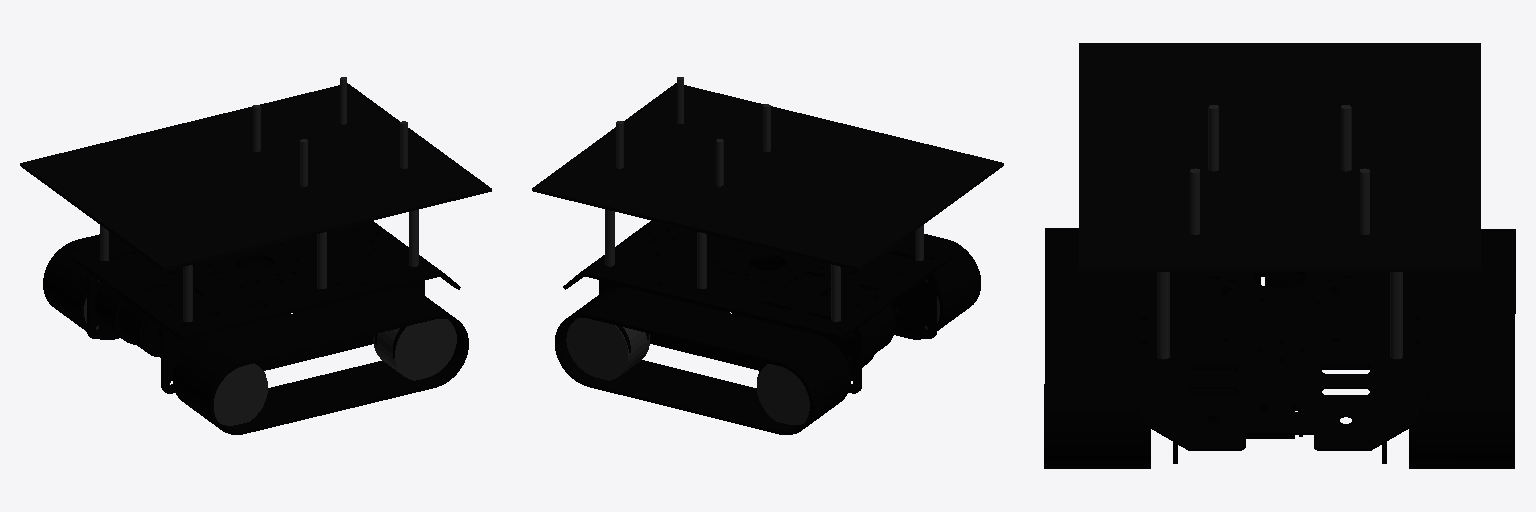
The robot description file, URDF, robot "my_tank":
<?xml version="1.0"?>
<robot name="my_tank">

<!-- ================================================ -->
<!--                   BASE LINK                      -->
<!-- ================================================ -->

    <link name="base_link">
        <visual>
        <origin xyz="0 0 0" rpy="3.14 0 1.57"/>
        <geometry>
            <mesh filename="package://tank_description/meshes/new_chassis.stl"
                scale="0.001 0.001 0.001"/>
        </geometry>
        <material name="black">
            <color rgba="0.025 0.025 0.025 1.0"/>
        </material>
        </visual>

        <collision>
            <origin xyz="0.0115 0 0.004" rpy="0 0 0"/>
            <geometry>
                <box size="0.1833 0.1776 0.0423"/>
            </geometry>
        </collision>

        <inertial>
            <origin xyz="0.0115 0 0.004" rpy="0 0 0"/>
            <mass value="1.02"/>
            <inertia
                ixx="0.00283" ixy="0.0" ixz="0.0"
                iyy="0.00301" iyz="0.0" izz="0.00554"/>
        </inertial>
    </link>


<!-- ================================================ -->
<!--                    IMU LINK                      -->
<!-- ================================================ -->

    <link name="imu_link"/>
    <joint name="imu_joint" type="fixed">
        <parent link="base_link"/>
        <child link="imu_link"/>
        <origin xyz="0.00 0 0.078" rpy="0 0 0"/>
    </joint>




<!-- ================================================ -->
<!--     CHASSIS → PLATFORM STANDOFFS (4 per side)    -->
<!-- ================================================ -->

<!-- ============== LEFT ================== -->

    <link name="standoff_l2">
        <visual>
        <geometry><cylinder radius="0.0025" length="0.05"/></geometry>
        <material name="silver"><color rgba="0.15 0.15 0.15 1.0"/></material>
        </visual>
    </link>
    <joint name="standoff_l2_joint" type="fixed">
        <parent link="base_link"/>
        <child link="standoff_l2"/>
        <origin xyz="-0.067 0.044 0.057"/>
    </joint>

    <link name="standoff_l1">
        <visual>
        <geometry><cylinder radius="0.0025" length="0.05"/></geometry>
        <material name="silver"><color rgba="0.15 0.15 0.15 1.0"/></material>
        </visual>
    </link>
    <joint name="standoff_l1_joint" type="fixed">
        <parent link="base_link"/>
        <child link="standoff_l1"/>
        <origin xyz="0.015 0.044 0.057"/>

    </joint>

        <link name="standoff_l3">
        <visual>
        <geometry><cylinder radius="0.0025" length="0.05"/></geometry>
        <material name="silver"><color rgba="0.15 0.15 0.15 1.0"/></material>
        </visual>
    </link>
    <joint name="standoff_l3_joint" type="fixed">
        <parent link="base_link"/>
        <child link="standoff_l3"/>
        <origin xyz="0.071 0.044 0.057"/>
    </joint>


<!-- ============== RIGHT ================== -->

    <link name="standoff_r2">
        <visual>
        <geometry><cylinder radius="0.0025" length="0.05"/></geometry>
        <material name="silver"><color rgba="0.15 0.15 0.15 1.0"/></material>
        </visual>
    </link>
    <joint name="standoff_r2_joint" type="fixed">
        <parent link="base_link"/>
        <child link="standoff_r2"/>
        <origin xyz="-0.067 -0.044 0.057"/>
    </joint>

    <link name="standoff_r1">
        <visual>
        <geometry><cylinder radius="0.0025" length="0.05"/></geometry>
        <material name="silver"><color rgba="0.15 0.15 0.15 1.0"/></material>
        </visual>
    </link>
    <joint name="standoff_r1_joint" type="fixed">
        <parent link="base_link"/>
        <child link="standoff_r1"/>
        <origin xyz="0.015 -0.044 0.057"/>

    </joint>

        <link name="standoff_r3">
        <visual>
        <geometry><cylinder radius="0.0025" length="0.05"/></geometry>
        <material name="silver"><color rgba="0.15 0.15 0.15 1.0"/></material>
        </visual>
    </link>
    <joint name="standoff_r3_joint" type="fixed">
        <parent link="base_link"/>
        <child link="standoff_r3"/>
        <origin xyz="0.071 -0.044 0.057"/>
    </joint>



    <!-- ================================================ -->
    <!--                    PLATFORM                      -->
    <!-- ================================================ -->
    <link name="platform">
        <visual>
        <geometry>
            <box size="0.2 0.152 0.002"/>
        </geometry>
        <material name="black">
            <color rgba="0.04 0.04 0.04 1.0"/>
        </material>
        </visual>
    </link>
    <joint name="platform_joint" type="fixed">
        <parent link="base_link"/>
        <child link="platform"/>
        <origin xyz="0 0 0.082"/>
    </joint>



    <!-- ================================================ -->
    <!--      PLATFORM → LIDAR STANDOFFS (4 corners)      -->
    <!-- ================================================ -->
    <link name="lidar_standoff_fl">
        <visual>
        <geometry><cylinder radius="0.002" length="0.026"/></geometry>
        <material name="silver"><color rgba="0.15 0.15 0.15 1.0"/></material>
        </visual>
    </link>
    <joint name="lidar_standoff_fl_joint" type="fixed">
        <parent link="platform"/>
        <child link="lidar_standoff_fl"/>
        <origin xyz="0.072 0.032 0.015"/>
    </joint>

    <link name="lidar_standoff_fr">
        <visual>
        <geometry><cylinder radius="0.002" length="0.026"/></geometry>
        <material name="silver"><color rgba="0.15 0.15 0.15 1.0"/></material>
        </visual>
    </link>
    <joint name="lidar_standoff_fr_joint" type="fixed">
        <parent link="platform"/>
        <child link="lidar_standoff_fr"/>
        <origin xyz="0.072 -0.032 0.015"/>
    </joint>

    <link name="lidar_standoff_rl">
        <visual>
        <geometry><cylinder radius="0.002" length="0.026"/></geometry>
        <material name="silver"><color rgba="0.15 0.15 0.15 1.0"/></material>
        </visual>
    </link>
    <joint name="lidar_standoff_rl_joint" type="fixed">
        <parent link="platform"/>
        <child link="lidar_standoff_rl"/>
        <origin xyz="0.015 0.025 0.015"/>
    </joint>

    <link name="lidar_standoff_rr">
        <visual>
        <geometry><cylinder radius="0.002" length="0.026"/></geometry>
        <material name="silver"><color rgba="0.15 0.15 0.15 1.0"/></material>
        </visual>
    </link>
    <joint name="lidar_standoff_rr_joint" type="fixed">
        <parent link="platform"/>
        <child link="lidar_standoff_rr"/>
        <origin xyz="0.015 -0.025 0.015"/>
    </joint>



<!-- ================================================ -->
<!--                     LIDAR                        -->
<!-- ================================================ -->

    <link name="lidar_link">
        <visual>
        <origin xyz="0.00 0 0" rpy="0 0 3.1416"/>
        <geometry>
            <mesh filename="package://tank_description/meshes/ydlidar_x3pro.stl"
                scale="0.001 0.001 0.001"/>
        </geometry>
        <material name="blue">
            <color rgba="0.5 0.5 0.5 1.0"/>
        </material>
        </visual>

        <!-- Gazebo needs collision + inertial on sensor links -->
        <collision>
            <geometry><cylinder radius="0.035" length="0.03"/></geometry>
        </collision>
        <inertial>
            <mass value="0.05"/>
            <inertia ixx="0.00001" ixy="0" ixz="0"
                     iyy="0.00001" iyz="0" izz="0.00001"/>
        </inertial>
    </link>
    <joint name="lidar_joint" type="fixed">
        <parent link="platform"/>
        <child link="lidar_link"/>
        <origin xyz="0.05 0 0.03"/>
    </joint>




<!-- ================================================ -->
<!--                  DRIVE WHEELS                    -->
<!-- ================================================ -->

<!-- ============== LEFT ================== -->
<link name="left_drive">
    <visual>
    <geometry>
        <cylinder radius="0.019" length="0.023"/>
    </geometry>
    <material name="light_grey">
        <color rgba="0.15 0.15 0.15 1.0"/>
    </material>
    </visual>
    <collision>
        <geometry><cylinder radius="0.019" length="0.023"/></geometry>
    </collision>
    <inertial>
        <mass value="0.05"/>
        <inertia
            ixx="0.000016" ixy="0.0" ixz="0.0"
            iyy="0.000016" iyz="0.0" izz="0.000016"/>
    </inertial>
</link>
<joint name="left_drive_joint" type="continuous">
    <parent link="base_link"/>
    <child link="left_drive"/>
    <origin xyz="-0.0579 0.068 0.001" rpy="-1.5708 0 0"/>
    <axis xyz="0 0 1"/>
</joint>


<!-- ============== RIGHT ================== -->
<link name="right_drive">
    <visual>
    <geometry>
        <cylinder radius="0.019" length="0.023"/>
    </geometry>
    <material name="light_grey">
        <color rgba="0.15 0.15 0.15 1.0"/>
    </material>
    </visual>
    <collision>
        <geometry><cylinder radius="0.019" length="0.023"/></geometry>
    </collision>
    <inertial>
        <mass value="0.05"/>
        <inertia
            ixx="0.000016" ixy="0.0" ixz="0.0"
            iyy="0.000016" iyz="0.0" izz="0.000016"/>
    </inertial>
</link>
<joint name="right_drive_joint" type="continuous">
    <parent link="base_link"/>
    <child link="right_drive"/>
    <origin xyz="0.058 -0.068 0.001" rpy="-1.5708 0 0"/>
    <axis xyz="0 0 1"/>
</joint>



<!-- ================================================ -->
<!--                 BEARING WHEELS                   -->
<!-- ================================================ -->

<!-- ============== LEFT ================== -->
<link name="left_bearing">
    <visual>
    <geometry>
        <cylinder radius="0.019" length="0.023"/>
    </geometry>
    <material name="light_grey">
        <color rgba="0.15 0.15 0.15 1.0"/>
    </material>
    </visual>
    <collision>
        <geometry><cylinder radius="0.019" length="0.023"/></geometry>
    </collision>
    <inertial>
        <mass value="0.05"/>
        <inertia
            ixx="0.000016" ixy="0.0" ixz="0.0"
            iyy="0.000016" iyz="0.0" izz="0.000016"/>
    </inertial>
</link>
<joint name="left_bearing_joint" type="continuous">
    <parent link="base_link"/>
    <child link="left_bearing"/>
    <origin xyz="0.058 0.0686 0.001" rpy="-1.5708 0 0"/>
    <axis xyz="0 0 1"/>
</joint>

<!-- ============== RIGHT ================== -->
<link name="right_bearing">
    <visual>
    <geometry>
        <cylinder radius="0.019" length="0.023"/>
    </geometry>
    <material name="light_grey">
        <color rgba="0.15 0.15 0.15 1.0"/>
    </material>
    </visual>
    <collision>
        <geometry><cylinder radius="0.019" length="0.023"/></geometry>
    </collision>
    <inertial>
        <mass value="0.05"/>
        <inertia
            ixx="0.000016" ixy="0.0" ixz="0.0"
            iyy="0.000016" iyz="0.0" izz="0.000016"/>
    </inertial>
</link>
<joint name="right_bearing_joint" type="continuous">
    <parent link="base_link"/>
    <child link="right_bearing"/>
    <origin xyz="-0.058 -0.069 0.001" rpy="-1.5708 0 0"/>
    <axis xyz="0 0 1"/>
</joint>



<!-- ================================================ -->
<!--              ULTRASONIC SENSORS                  -->
<!-- ================================================ -->

<!-- ============== LEFT ================== -->
<link name="ultrasonic_left_link">
    <visual>
        <origin xyz="0 0 0" rpy="4.7124 0 0"/>
        <geometry>
            <mesh filename="package://tank_description/meshes/ultrasonic_sensor.stl"
                scale="0.001 0.001 0.001"/>
        </geometry>
        <material name="dark">
            <color rgba="1 1 1 1.0"/>
        </material>
    </visual>
</link>
<joint name="ultrasonic_left_joint" type="fixed">
    <parent link="base_link"/>
    <child link="ultrasonic_left_link"/>
    <origin xyz="0.01 0.05 0.042" rpy="0 0 0"/>
</joint>


<!-- ============== RIGHT ================== -->
<link name="ultrasonic_right_link">
    <visual>
        <origin xyz="0 0 0" rpy="4.7124 0 0"/>
        <geometry>
            <mesh filename="package://tank_description/meshes/ultrasonic_sensor.stl"
                scale="0.001 0.001 0.001"/>
        </geometry>
        <material name="dark">
            <color rgba="1 1 1 1.0"/>
        </material>
    </visual>
</link>
<joint name="ultrasonic_right_joint" type="fixed">
    <parent link="base_link"/>
    <child link="ultrasonic_right_link"/>
    <origin xyz="0.01 -0.05 0.042" rpy="0 0 3.1416"/>
</joint>


<!-- ============== BACK ================== -->
<link name="ultrasonic_back_link">
    <visual>
        <origin xyz="0 0 0" rpy="4.7124 0 0"/>
        <geometry>
            <mesh filename="package://tank_description/meshes/ultrasonic_sensor.stl"
                scale="0.001 0.001 0.001"/>
        </geometry>
        <material name="dark">
            <color rgba="1 1 1 1.0"/>
        </material>
    </visual>
</link>
<joint name="ultrasonic_back_joint" type="fixed">
    <parent link="base_link"/>
    <child link="ultrasonic_back_link"/>
    <origin xyz="-0.085 0.0 0.012" rpy="0 0 1.5708"/>
</joint>

<!-- ============== FRONT ================== -->
<link name="ultrasonic_front_link">
    <visual>
        <origin xyz="0 0 0" rpy="4.7124 0 0"/>
        <geometry>
            <mesh filename="package://tank_description/meshes/ultrasonic_sensor.stl"
                scale="0.001 0.001 0.001"/>
        </geometry>
        <material name="dark">
            <color rgba="1 1 1 1.0"/>
        </material>
    </visual>
</link>
<joint name="ultrasonic_front_joint" type="fixed">
    <parent link="base_link"/>
    <child link="ultrasonic_front_link"/>
    <origin xyz="0.08 0.0 0.042" rpy="0 0 -1.5708"/>
</joint>



<!-- ================================================ -->
<!--             GAZEBO MATERIAL COLORS               -->
<!-- ================================================ -->
<!-- Gazebo ignores URDF <material> tags, these      -->
<!-- <gazebo> blocks set the visual appearance in sim  -->

<gazebo reference="base_link">
    <material>Gazebo/DarkGrey</material>
</gazebo>
<gazebo reference="platform">
    <material>Gazebo/DarkGrey</material>
</gazebo>
<gazebo reference="left_drive">
    <material>Gazebo/Black</material>
    <mu1>1.5</mu1>
    <mu2>1.5</mu2>
    <kp>1e6</kp>
    <kd>100</kd>
</gazebo>
<gazebo reference="right_drive">
    <material>Gazebo/Black</material>
    <mu1>1.5</mu1>
    <mu2>1.5</mu2>
    <kp>1e6</kp>
    <kd>100</kd>
</gazebo>
<gazebo reference="left_bearing">
    <material>Gazebo/Black</material>
    <mu1>1.5</mu1>
    <mu2>1.5</mu2>
    <kp>1e6</kp>
    <kd>100</kd>
</gazebo>
<gazebo reference="right_bearing">
    <material>Gazebo/Black</material>
    <mu1>1.5</mu1>
    <mu2>1.5</mu2>
    <kp>1e6</kp>
    <kd>100</kd>
</gazebo>
<gazebo reference="lidar_link">
    <material>Gazebo/Grey</material>
</gazebo>


<!-- ================================================ -->
<!--          GAZEBO: DIFFERENTIAL DRIVE PLUGIN       -->
<!-- ================================================ -->
<!-- Subscribes to /cmd_vel, publishes /odom and      -->
<!-- broadcasts odom → base_link TF.                  -->
<!-- Both drive + bearing wheels are driven so the    -->
<!-- 4-wheel tank doesn't drag.                       -->

<gazebo>
    <plugin name="diff_drive" filename="libgazebo_ros_diff_drive.so">
        <!-- Wheel joints, left side -->
        <left_joint>left_drive_joint</left_joint>
        <left_joint>left_bearing_joint</left_joint>

        <!-- Wheel joints, right side -->
        <right_joint>right_drive_joint</right_joint>
        <right_joint>right_bearing_joint</right_joint>

        <!-- Wheel geometry (from URDF) -->
        <wheel_separation>0.136</wheel_separation>
        <wheel_diameter>0.038</wheel_diameter>

        <!-- Limits -->
        <max_wheel_torque>5.0</max_wheel_torque>
        <max_wheel_acceleration>2.0</max_wheel_acceleration>

        <!-- Odometry -->
        <odometry_frame>odom</odometry_frame>
        <robot_base_frame>base_link</robot_base_frame>
        <publish_odom>true</publish_odom>
        <publish_odom_tf>true</publish_odom_tf>
        <publish_wheel_tf>true</publish_wheel_tf>

        <!-- Topics -->
        <command_topic>cmd_vel</command_topic>
        <odometry_topic>odom</odometry_topic>

        <!-- Update rate -->
        <update_rate>100.0</update_rate>
    </plugin>
</gazebo>


<!-- ================================================ -->
<!--          GAZEBO: LIDAR SENSOR PLUGIN             -->
<!-- ================================================ -->
<!-- Simulates the YD LIDAR X3 Pro: 360° scan,       -->
<!-- ~8m range, publishes sensor_msgs/LaserScan       -->
<!-- on /scan, same topic SLAM Toolbox expects.      -->

<gazebo reference="lidar_link">
    <sensor type="ray" name="lidar_sensor">
        <pose>0 0 0 0 0 0</pose>
        <always_on>true</always_on>
        <update_rate>6.0</update_rate>
        <visualize>true</visualize>
        <ray>
            <scan>
                <horizontal>
                    <samples>720</samples>
                    <resolution>1</resolution>
                    <min_angle>-3.14159</min_angle>
                    <max_angle>3.14159</max_angle>
                </horizontal>
            </scan>
            <range>
                <min>0.12</min>
                <max>8.0</max>
                <resolution>0.01</resolution>
            </range>
            <noise>
                <type>gaussian</type>
                <mean>0.0</mean>
                <stddev>0.01</stddev>
            </noise>
        </ray>
        <plugin name="lidar_plugin" filename="libgazebo_ros_ray_sensor.so">
            <ros>
                <remapping>~/out:=/scan</remapping>
            </ros>
            <output_type>sensor_msgs/LaserScan</output_type>
            <frame_name>lidar_link</frame_name>
        </plugin>
    </sensor>
</gazebo>


<!-- ================================================ -->
<!--           GAZEBO: IMU SENSOR PLUGIN              -->
<!-- ================================================ -->
<!-- Publishes sensor_msgs/Imu on /sensors/imu,      -->
<!-- same topic your real firmware publishes.          -->

<gazebo reference="imu_link">
    <sensor type="imu" name="imu_sensor">
        <always_on>true</always_on>
        <update_rate>50.0</update_rate>
        <imu>
            <angular_velocity>
                <x><noise type="gaussian"><mean>0</mean><stddev>0.0005</stddev></noise></x>
                <y><noise type="gaussian"><mean>0</mean><stddev>0.0005</stddev></noise></y>
                <z><noise type="gaussian"><mean>0</mean><stddev>0.0005</stddev></noise></z>
            </angular_velocity>
            <linear_acceleration>
                <x><noise type="gaussian"><mean>0</mean><stddev>0.005</stddev></noise></x>
                <y><noise type="gaussian"><mean>0</mean><stddev>0.005</stddev></noise></y>
                <z><noise type="gaussian"><mean>0</mean><stddev>0.005</stddev></noise></z>
            </linear_acceleration>
        </imu>
        <plugin name="imu_plugin" filename="libgazebo_ros_imu_sensor.so">
            <ros>
                <remapping>~/out:=/sensors/imu</remapping>
            </ros>
            <frame_name>imu_link</frame_name>
            <initial_orientation_as_reference>false</initial_orientation_as_reference>
        </plugin>
    </sensor>
</gazebo>


</robot>

--- What the picture shows (computed from the rendered views, not written in the file) ---
Views: 3 orthographic renders of the robot side by side, from view 1: azimuth 30°, elevation 25°; view 2: azimuth 150°, elevation 25°; view 3: azimuth 270°, elevation 25°.
Model my_tank with 22 links and 21 joints (4 continuous, 17 fixed), rooted at base_link, posed all joints at 0.
Visible links, largest first — view 1: base_link, platform, right_drive, right_bearing, standoff_r2, standoff_r1, standoff_r3; view 2: base_link, platform, left_bearing, left_drive, standoff_l2, standoff_l1, standoff_l3; view 3: platform, base_link, standoff_l3, standoff_r3, lidar_standoff_rl, lidar_standoff_rr, lidar_standoff_fl, lidar_standoff_fr.
Link boxes in pixels (x1,y1,x2,y2): base_link: [43, 221, 468, 434]; platform: [20, 83, 491, 271]; right_drive: [373, 319, 456, 380]; right_bearing: [214, 363, 267, 425]; standoff_r2: [183, 265, 192, 321]; standoff_r1: [317, 232, 326, 288]; standoff_r3: [409, 210, 418, 266]; base_link: [555, 221, 980, 434]; platform: [532, 83, 1003, 270]; left_bearing: [566, 318, 649, 380]; left_drive: [757, 364, 809, 424]; standoff_l2: [831, 264, 840, 321]; standoff_l1: [697, 232, 706, 288]; standoff_l3: [605, 209, 614, 266]; platform: [1079, 43, 1480, 271]; base_link: [1044, 228, 1515, 468]; standoff_l3: [1390, 272, 1402, 359]; standoff_r3: [1157, 272, 1169, 359]; lidar_standoff_rl: [1341, 105, 1351, 171]; lidar_standoff_rr: [1208, 105, 1218, 171]; lidar_standoff_fl: [1360, 168, 1369, 234]; lidar_standoff_fr: [1190, 168, 1199, 234].
Bounding box of the posed robot: 0.2033 × 0.1777 × 0.1288 m (x, y, z).
Meshes: 3 distinct files referenced, 1 mesh visuals loaded (1 binary STL); not drawn: 5 (reference not matched to a file when rendering).
